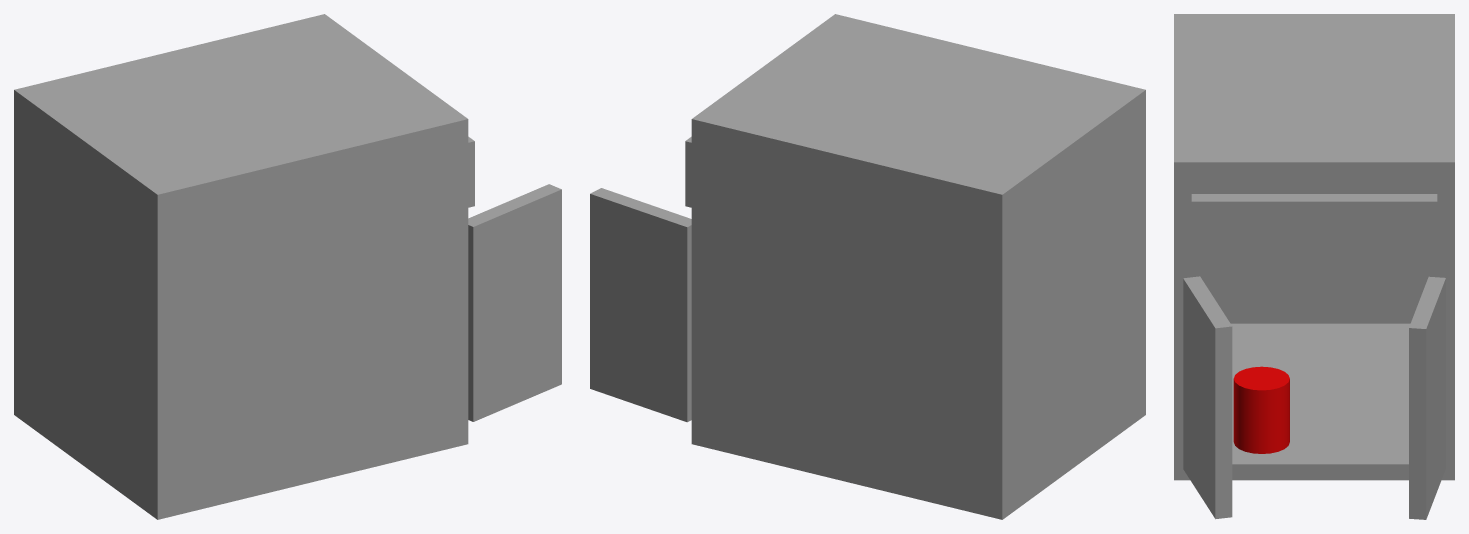
The model's file is SM_Cupboard_Open.fbx.
The picture shows the model from 3 angles, left to right: view 1: azimuth 30°, elevation 25°; view 2: azimuth 150°, elevation 25°; view 3: azimuth 270°, elevation 25°; orthographic projection. The views are drawn at different scales.
Parts seen in each view (by area): view 1: SM_Cupboard_Open; view 2: SM_Cupboard_Open; view 3: SM_Cupboard_Open.
Boxes of the visible parts, <box> form: SM_Cupboard_Open: <box>14,14,561,519</box>; SM_Cupboard_Open: <box>590,14,1145,519</box>; SM_Cupboard_Open: <box>1174,14,1454,519</box>.
Size of the model in its own units: 137 by 100 by 80.
